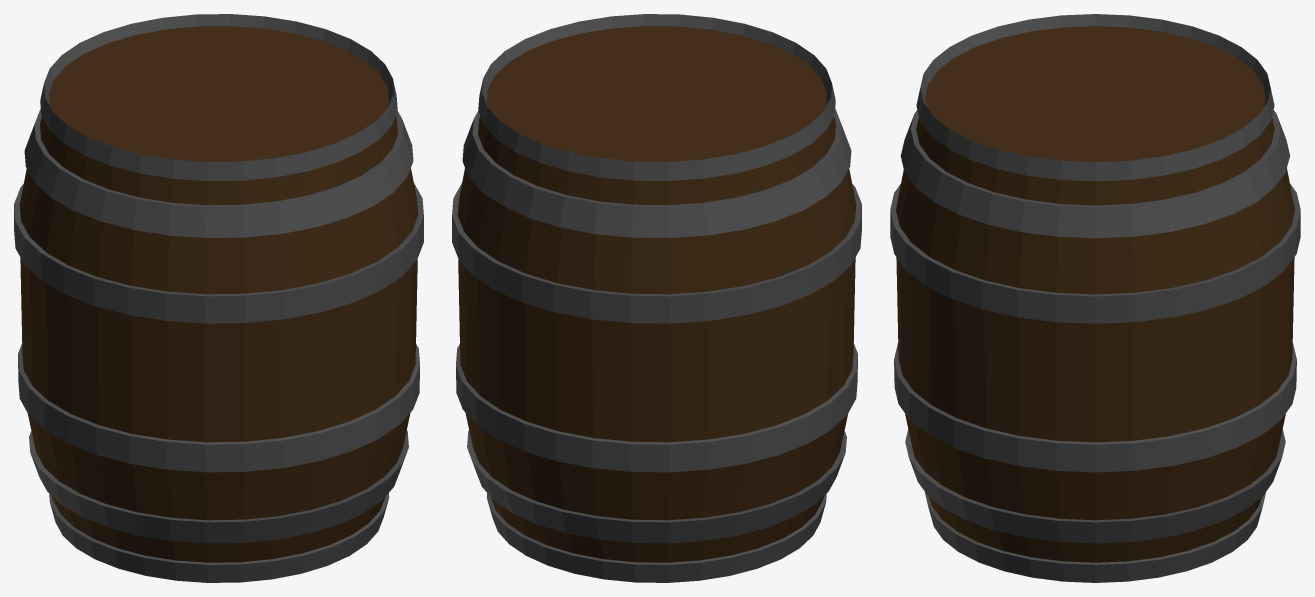
The model's file is barrel.fbx.
3 renders of one model, left to right at view 1: azimuth 30°, elevation 25°; view 2: azimuth 150°, elevation 25°; view 3: azimuth 270°, elevation 25°, orthographic.
Visible parts, largest first — view 1: Цилиндр; view 2: Цилиндр; view 3: Цилиндр.
Boxes of the visible parts, left/top/right/bottom form: Цилиндр: left=14, top=14, right=423, bottom=582; Цилиндр: left=452, top=14, right=861, bottom=582; Цилиндр: left=890, top=14, right=1300, bottom=582.
Bounding box in the file's own units: 301 × 344 × 301.
